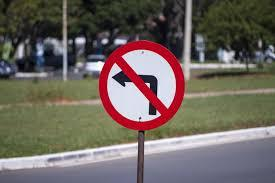no_left_turn: (98, 39, 183, 129)
